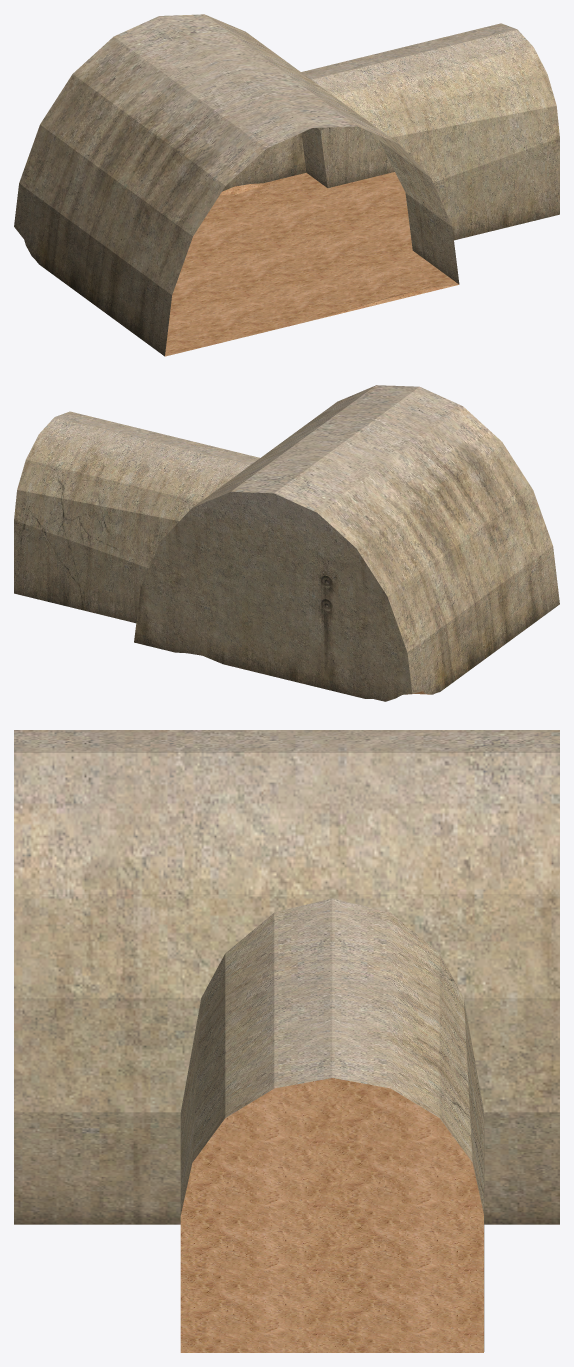
File: thm_tato_jabbas_palace_r2_hall1_mesh_r2.fbx
3 renders of one model, top to bottom at view 1: azimuth 30°, elevation 25°; view 2: azimuth 150°, elevation 25°; view 3: azimuth 270°, elevation 25°, orthographic. The views are drawn at different scales.
Parts seen in each view (by area): view 1: mesh_node; view 2: mesh_node; view 3: mesh_node.
Boxes of the visible parts, <box> form: mesh_node: <box>14,14,559,356</box>; mesh_node: <box>14,385,559,701</box>; mesh_node: <box>14,730,559,1352</box>.
Bounding box in the file's own units: 12 × 5 × 7.2.
